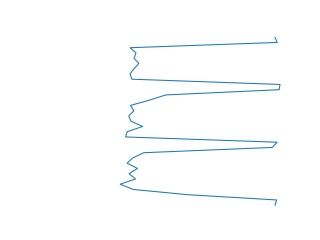majorRiverChannelBar: (117, 38, 284, 206)
